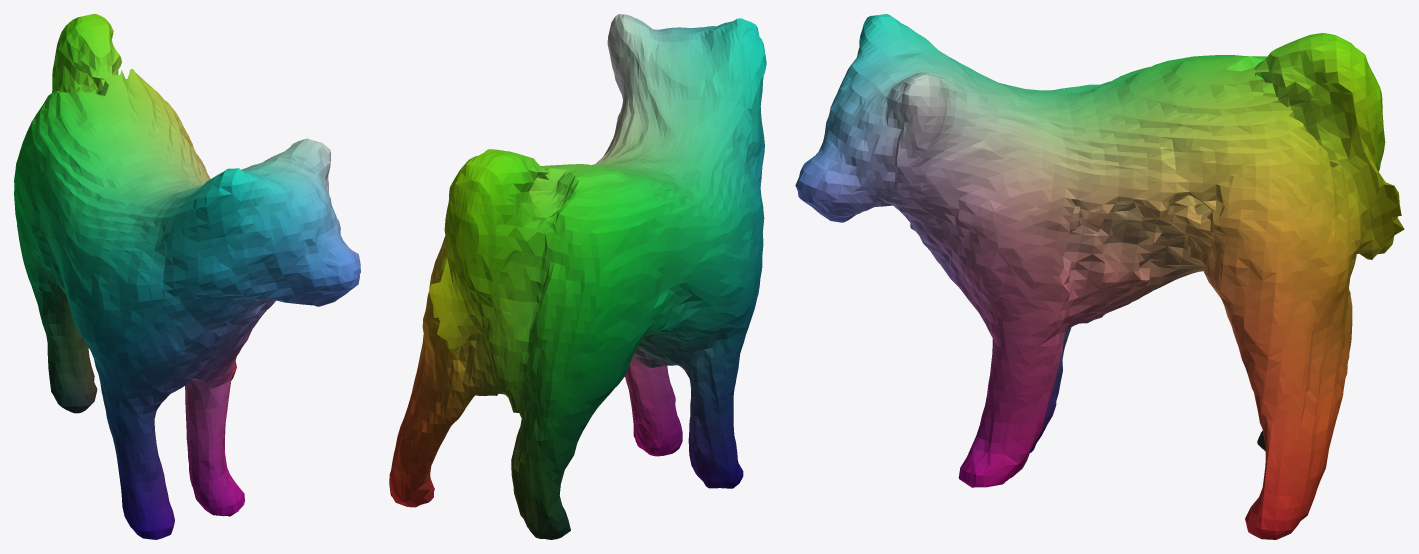
Rendered from shiba-haru-1001-mesh-00092.obj.
The picture shows the model from 3 angles, left to right: view 1: azimuth 30°, elevation 25°; view 2: azimuth 150°, elevation 25°; view 3: azimuth 270°, elevation 25°; orthographic projection. The views are drawn at different scales.
Bounding box in the file's own units: 0.0601 × 0.0936 × 0.1108.
